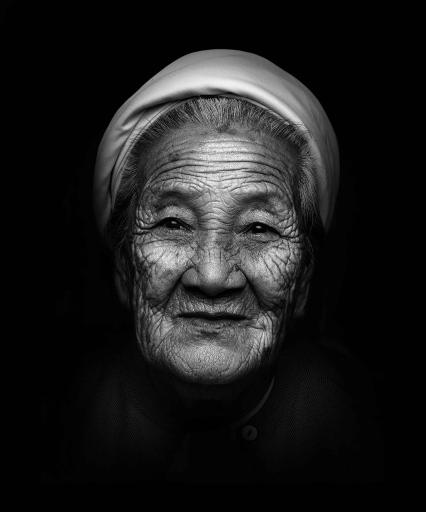left_eye: (243, 221, 281, 241)
left_lip_corner: (238, 311, 261, 332)
right_eye: (156, 215, 193, 236)
right_lip_corner: (171, 308, 194, 330)
